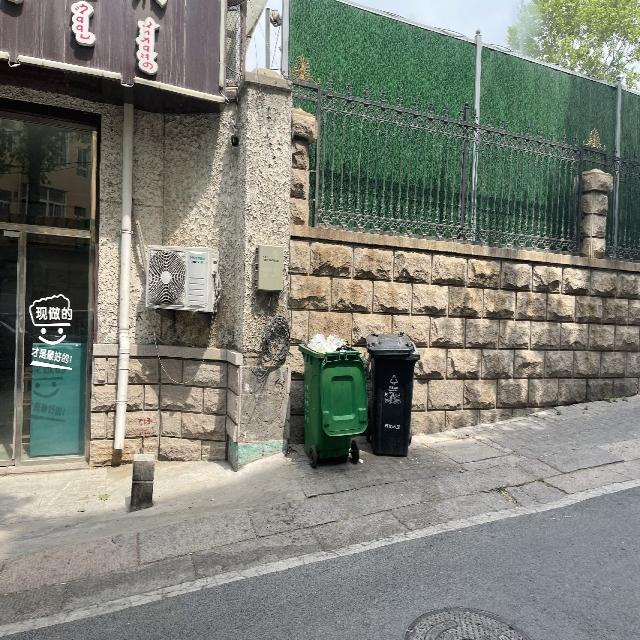garbage_bin: (366, 333, 420, 456)
overflow: (297, 331, 368, 461)
